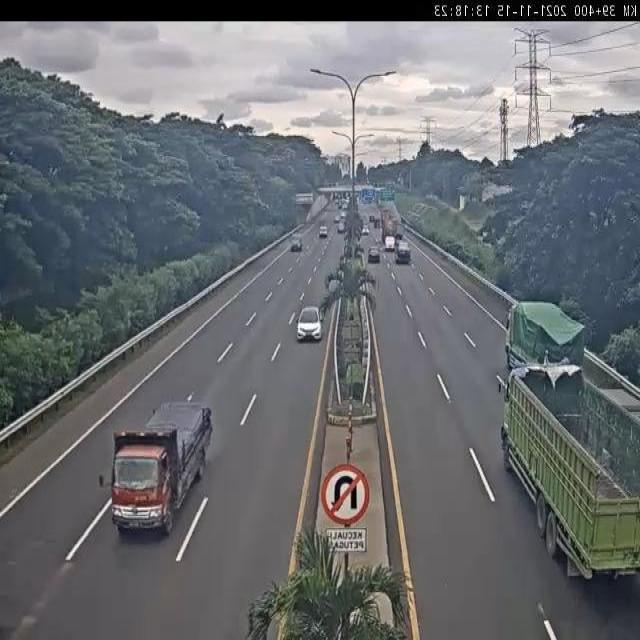Car: (294, 304, 326, 347), (394, 240, 414, 266), (290, 236, 308, 258), (316, 224, 331, 242), (367, 249, 380, 263), (337, 221, 346, 237), (386, 236, 395, 252), (362, 226, 372, 238)
Truck: (490, 360, 640, 582), (100, 396, 214, 536), (504, 295, 590, 377)
